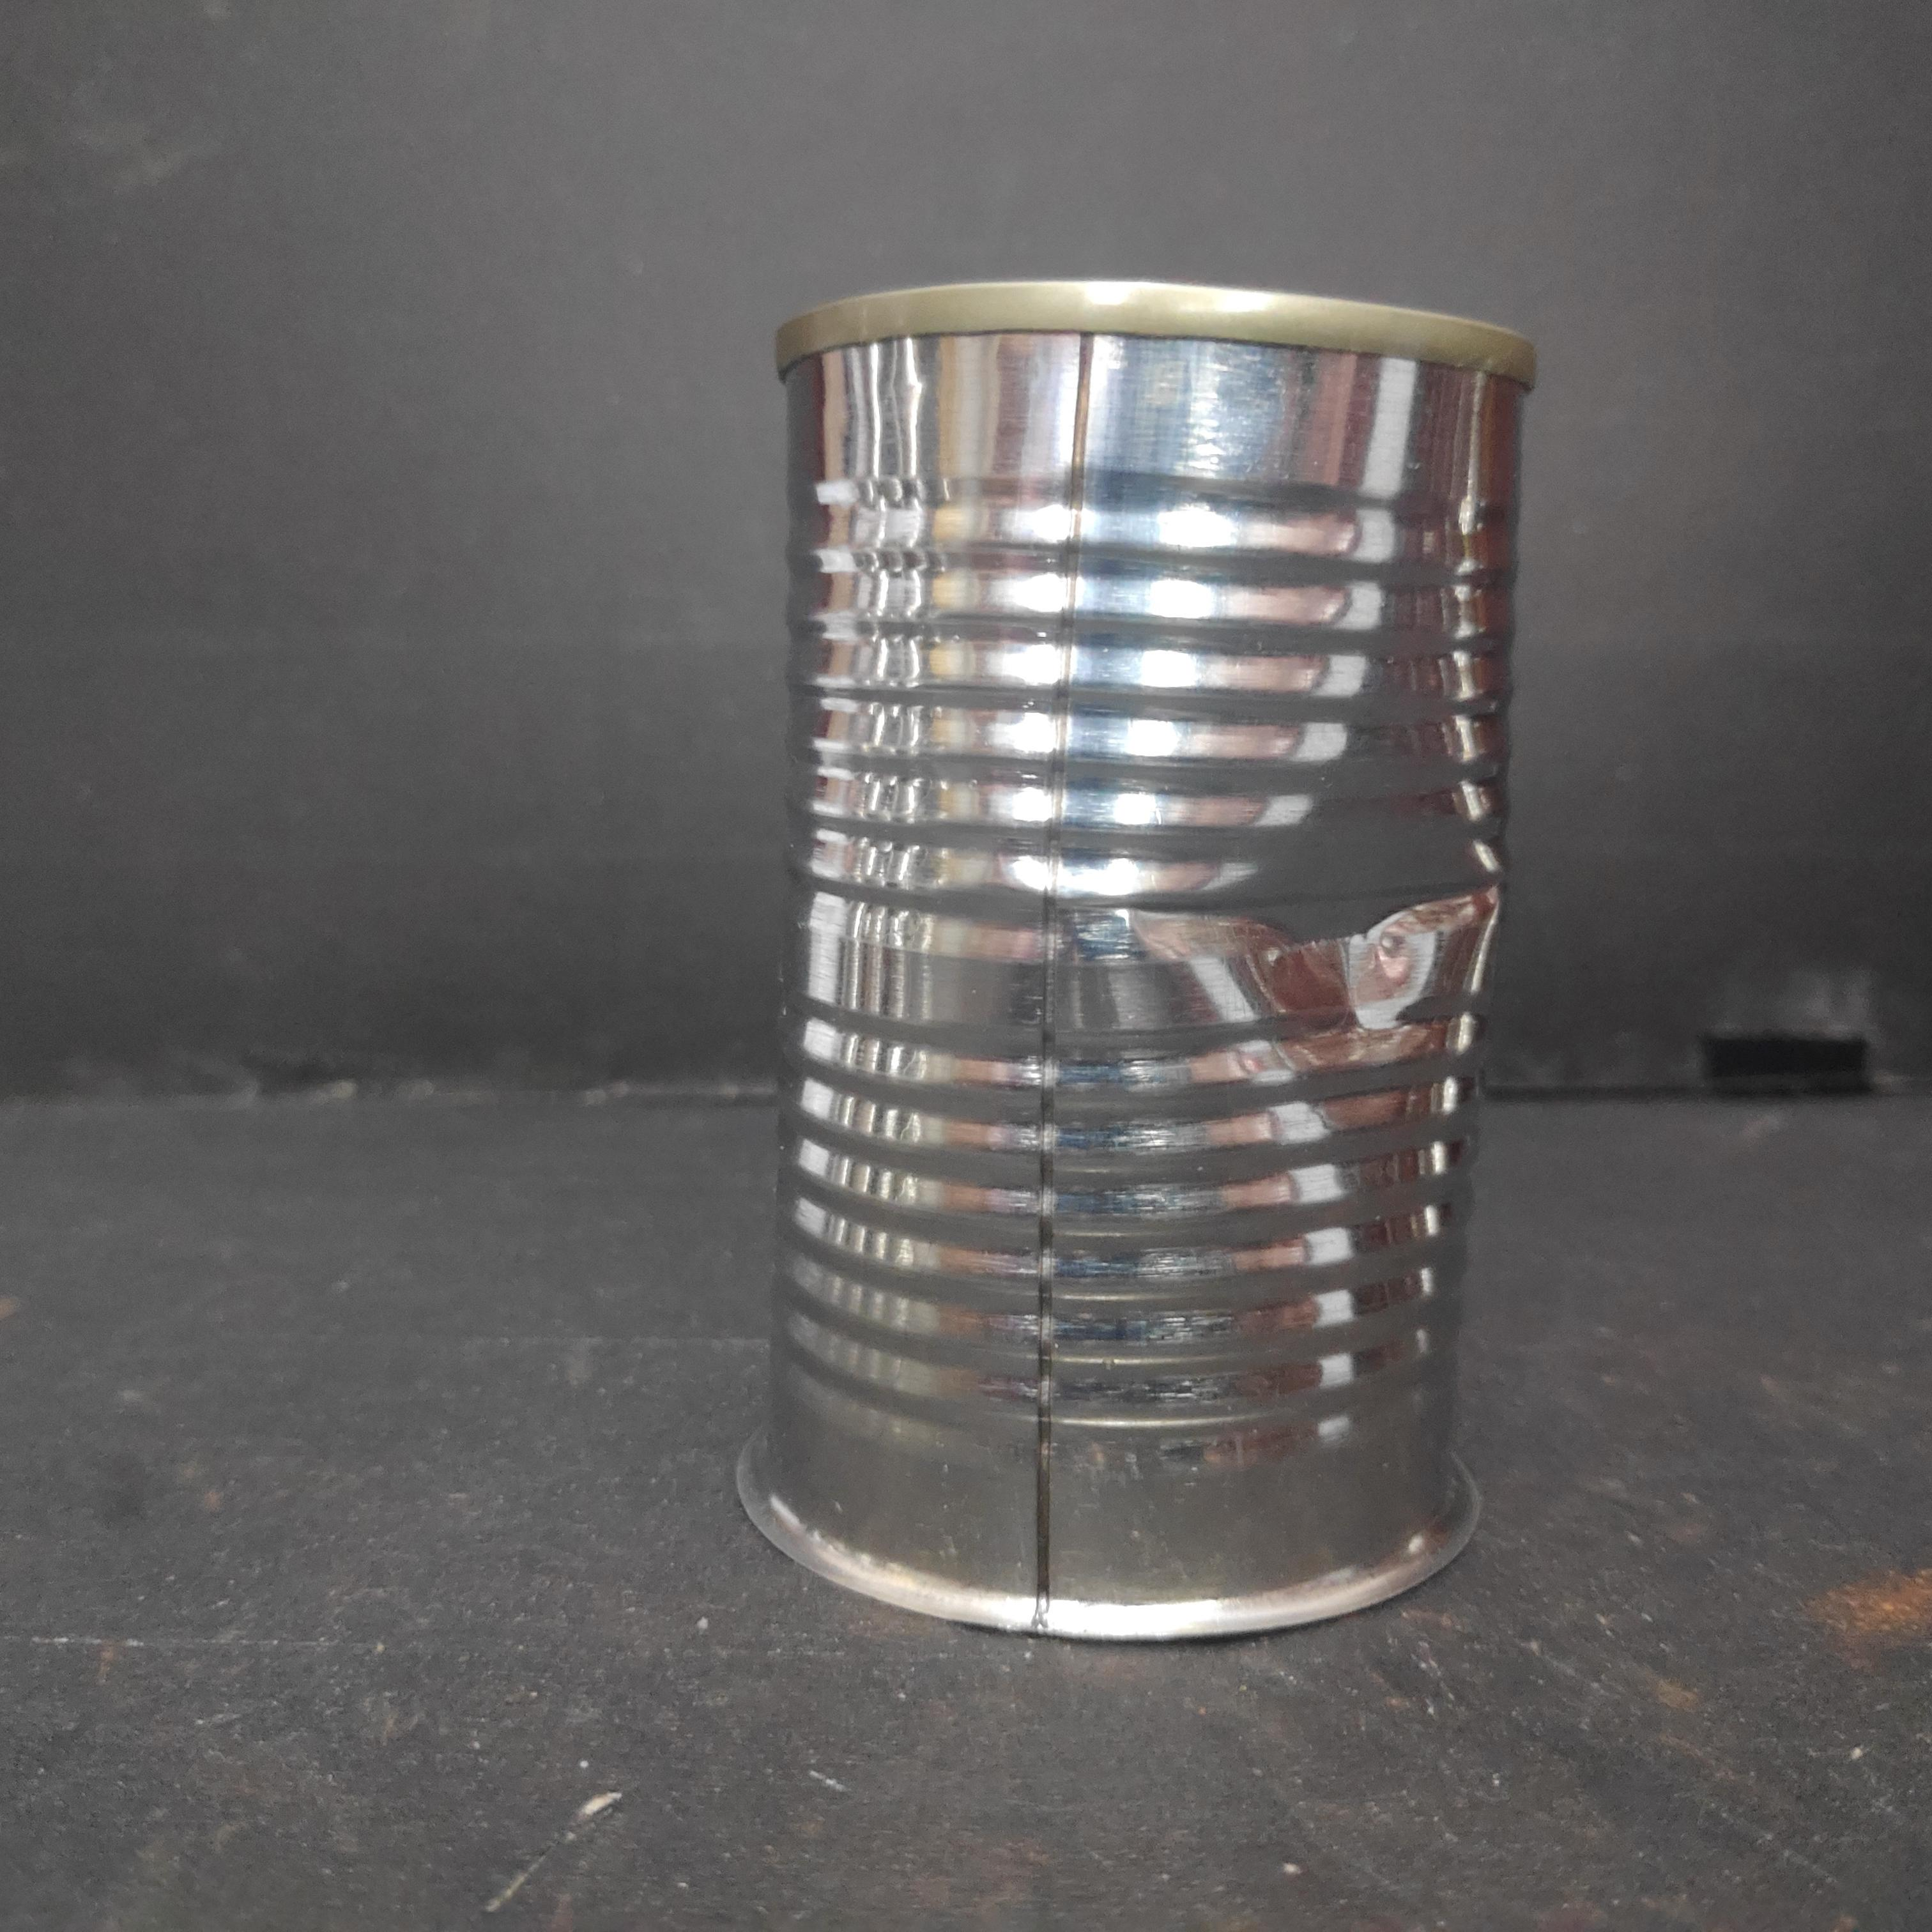Minor Defect: (759, 276, 1545, 1652)
